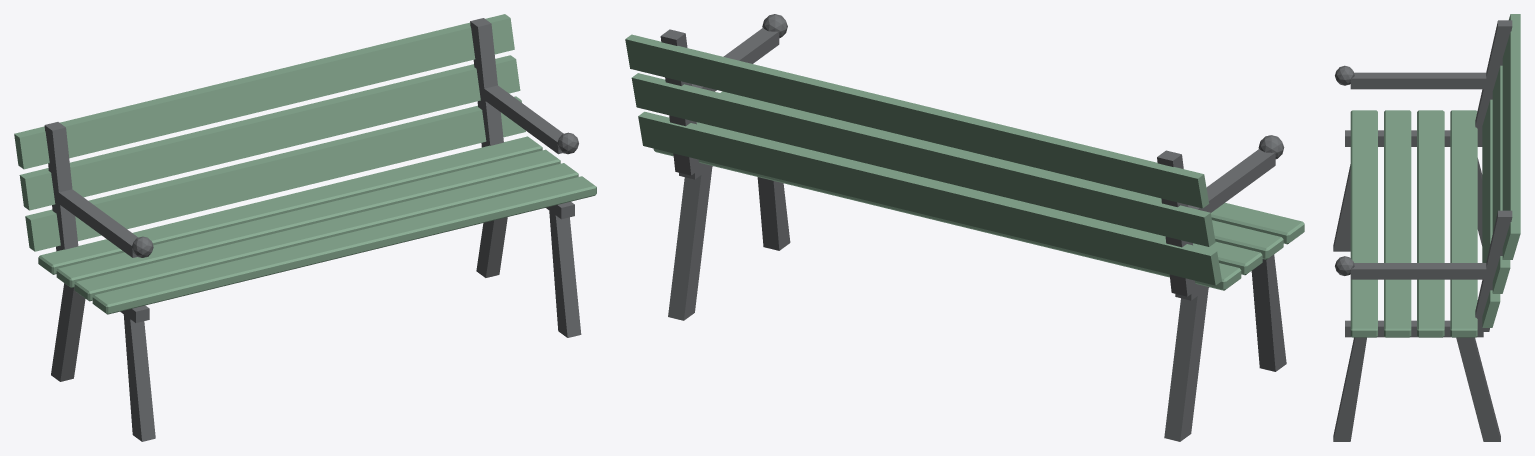
The model's file is bench.glb.
The picture shows the model from 3 angles, left to right: view 1: azimuth 30°, elevation 25°; view 2: azimuth 150°, elevation 25°; view 3: azimuth 270°, elevation 25°; orthographic projection. The views are drawn at different scales.
Parts seen in each view (by area): view 1: bench_bench_g, bench_iron; view 2: bench_bench_g, bench_iron; view 3: bench_bench_g, bench_iron.
Part boxes in pixels (box(x1,y1,x2,y2)): bench_bench_g: box(14, 14, 596, 314); bench_iron: box(44, 18, 581, 441); bench_bench_g: box(625, 34, 1304, 290); bench_iron: box(660, 14, 1286, 441); bench_bench_g: box(1350, 14, 1520, 337); bench_iron: box(1333, 20, 1512, 441).
Bounding box in the file's own units: 1.8 × 0.86 × 0.6484.
